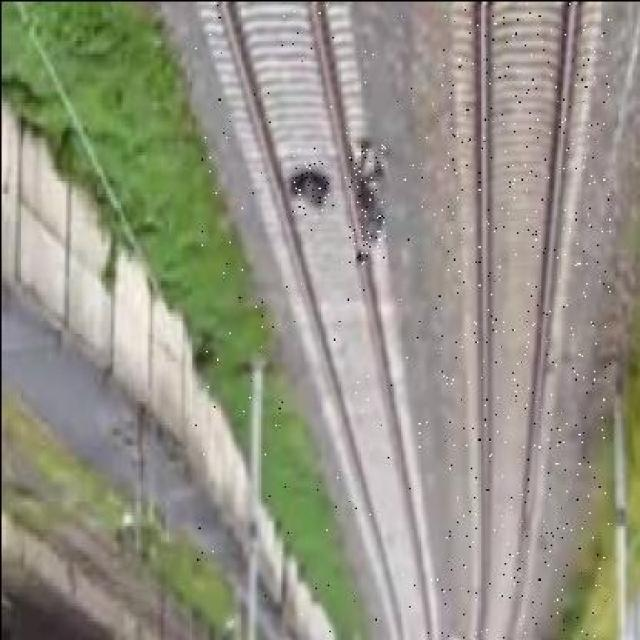danger: (348, 142, 386, 264), (290, 158, 332, 214)
rail: (192, 3, 454, 640), (441, 2, 609, 636)
